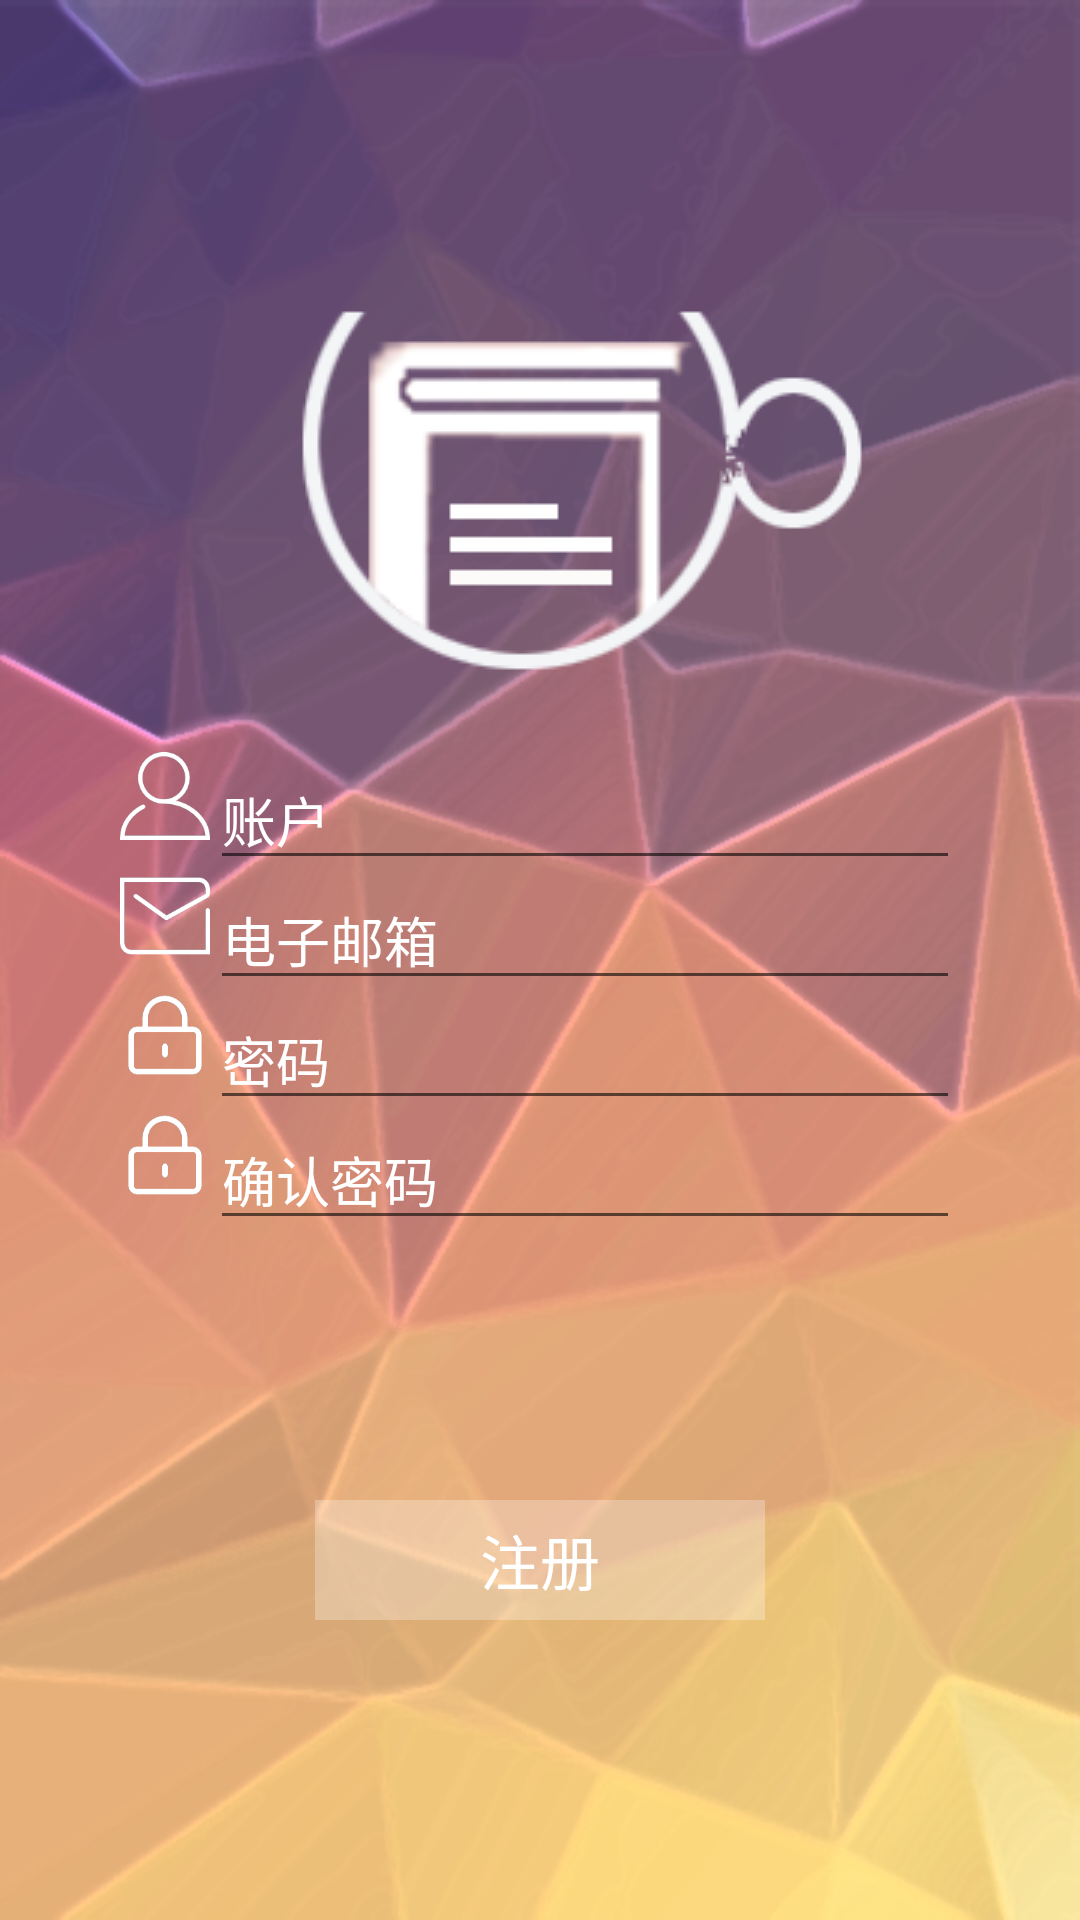

Named icons in this screenshot (1080px x 1920px) and their bounding boxes, (x1, y1, x2, y2):
email: (120, 870, 210, 960)
passward: (128, 995, 202, 1075), (128, 1115, 202, 1195)
